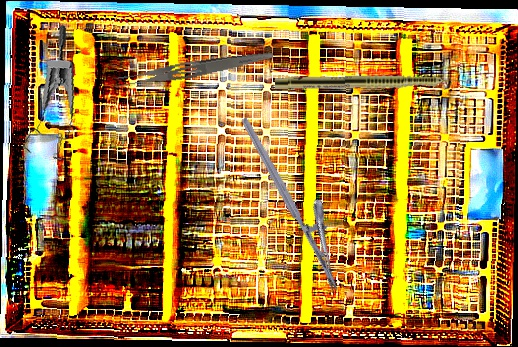Dressing Forceps: (112, 43, 275, 93)
Handpiece: (274, 73, 474, 92)
Needle Holder: (239, 104, 363, 294)
Speculum: (2, 23, 91, 168)
